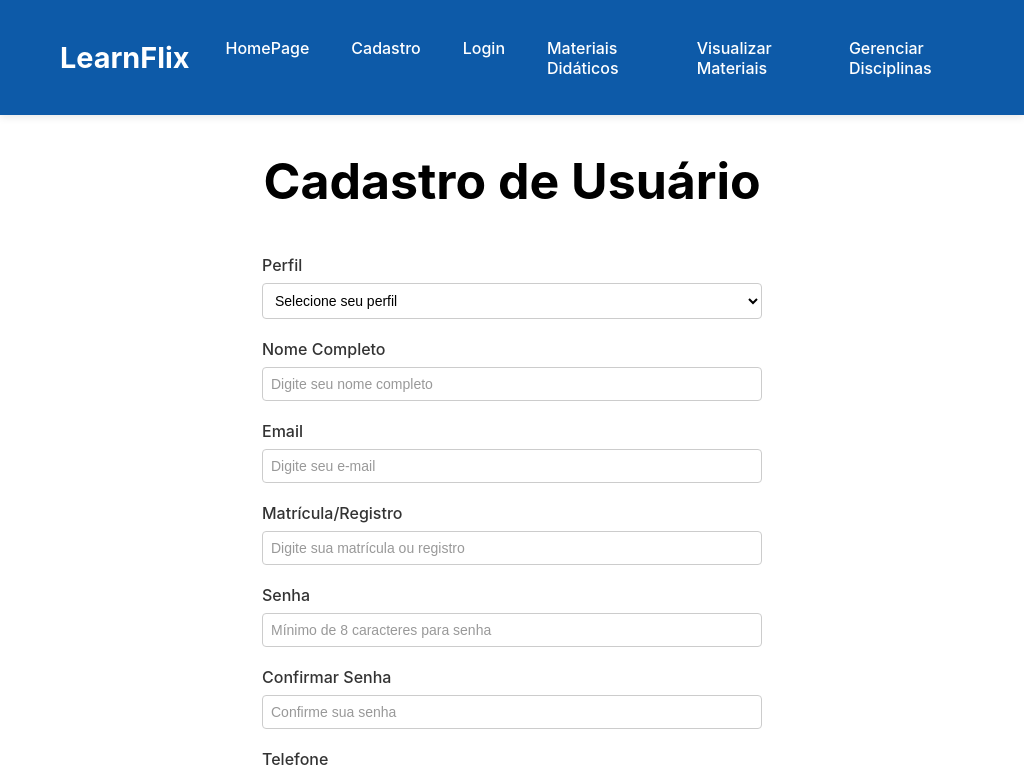
it: Formulário de Cadastro › Deve exibir erro ao digitar e-mail sem formatação correta
The image size is (1024, 768).
In the field with test id "input-email": (512, 466) [262,449,762,483], type "teste.com"
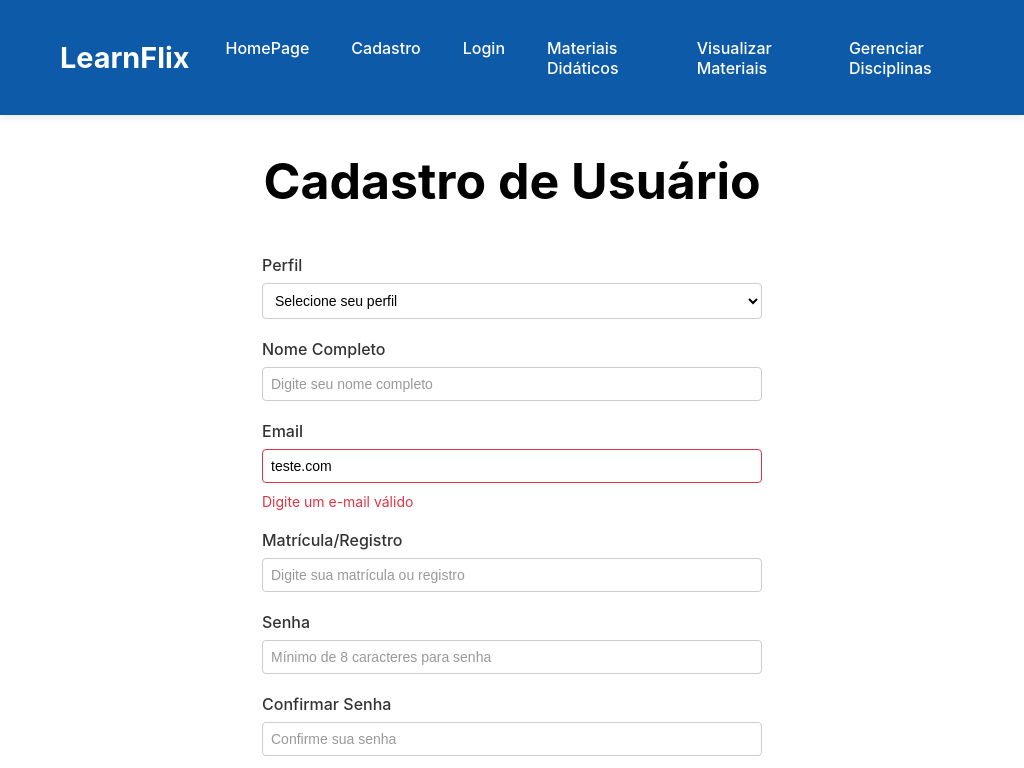
Expected: the text "Digite um e-mail válido" is shown, [262,493,413,510]
